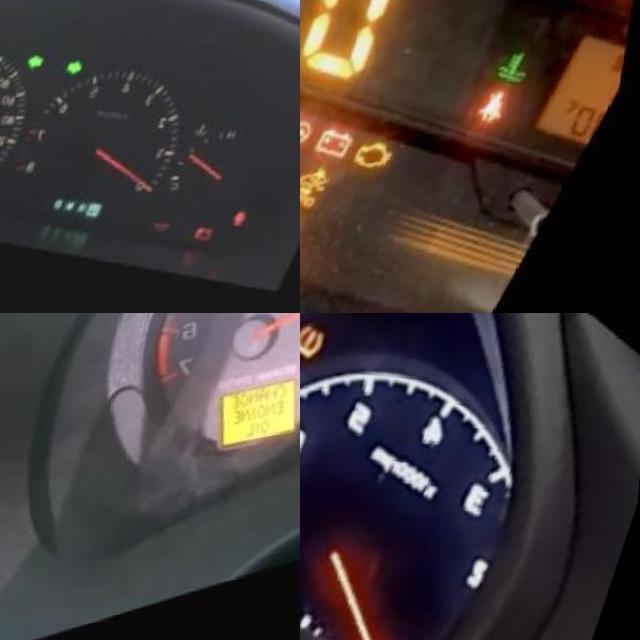Engine cooling system: (203, 134, 223, 153)
High Engine Coolant Temperature: (505, 59, 551, 106)
Seat Belt: (489, 99, 529, 142)
